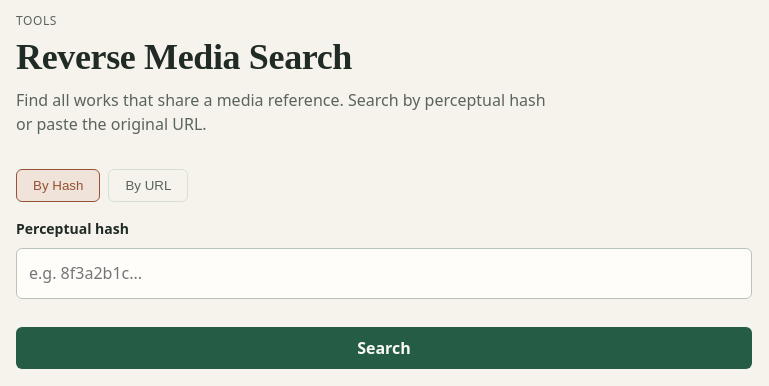
Test: MediaSearch › switches to URL mode
Click the tab "By URL".
click(148, 186)  # box left=108, top=169, right=188, bottom=202
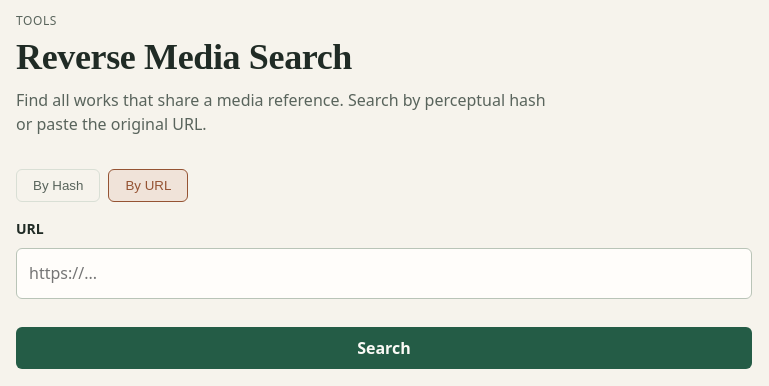
Expected: the field labelled "URL" is shown, left=16, top=248, right=752, bottom=299
